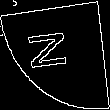N_E: (30, 32, 80, 78)
